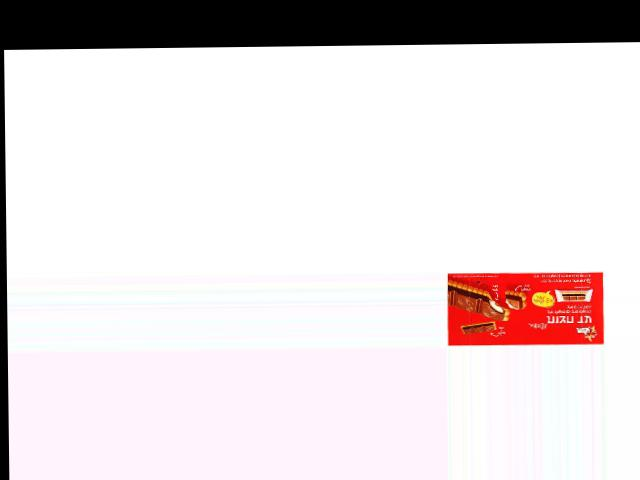chocolate: (446, 271, 606, 346)
